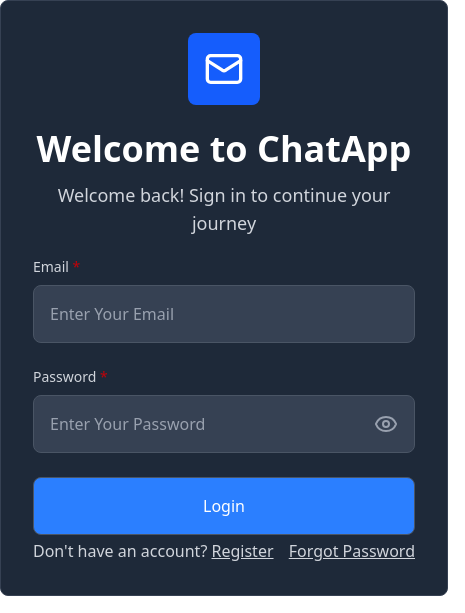
Scenario: should show validation errors for empty form
The width and height of the screenshot is (465, 613).
Click the button "Login" at (224,506), box [33,477,415,535]
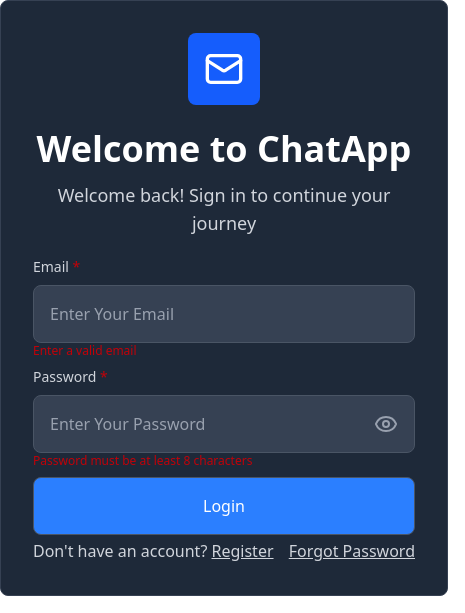
Check: the text "Enter a valid email" is shown, box [33,343,137,359]
Check: the text "Password must be at least 8 characters" is shown, box [33,453,252,469]
